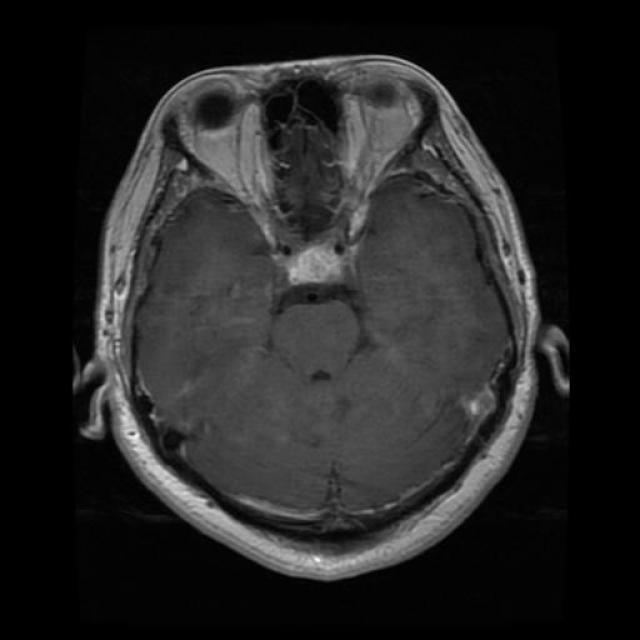pituitary: (255, 236, 368, 301)
